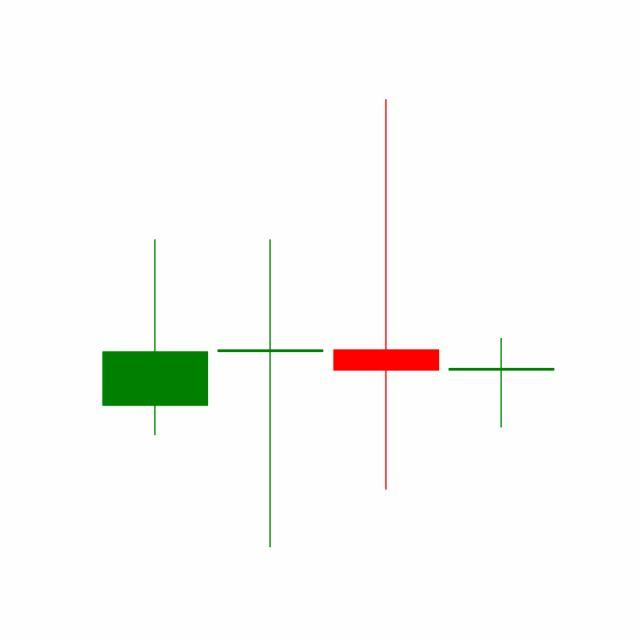Spinning Top: (329, 96, 445, 495)
